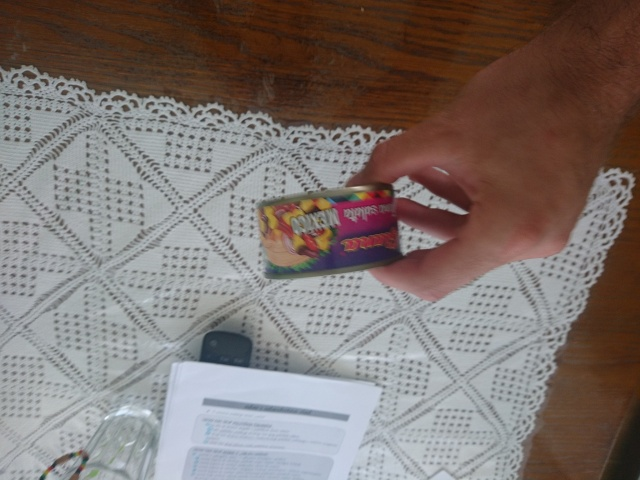Giana Tuna Salad Mexico 185g: (253, 180, 407, 282)
